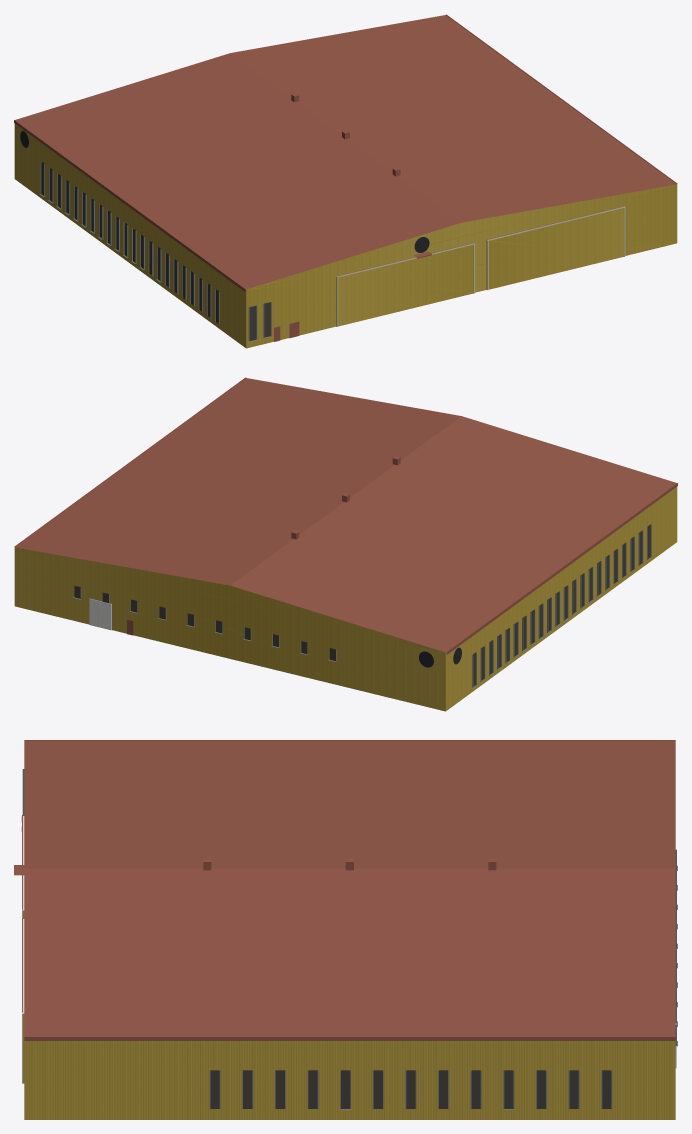
The model's file is cyxd_hangar38_lod1.gltf.
3 views of the same model, one above another, from view 1: azimuth 30°, elevation 25°; view 2: azimuth 150°, elevation 25°; view 3: azimuth 270°, elevation 25° (orthographic). The views are drawn at different scales.
Parts seen in each view (by area): view 1: cyxd_hangar38; view 2: cyxd_hangar38; view 3: cyxd_hangar38.
Boxes of the visible parts, x1=… form: cyxd_hangar38: x1=14, y1=14, x2=677, y2=348; cyxd_hangar38: x1=14, y1=377, x2=677, y2=711; cyxd_hangar38: x1=14, y1=740, x2=677, y2=1119.
Size of the model in its own units: 69.28 by 12.1 by 65.24.
